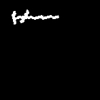double_crochet: (12, 10, 58, 23)
